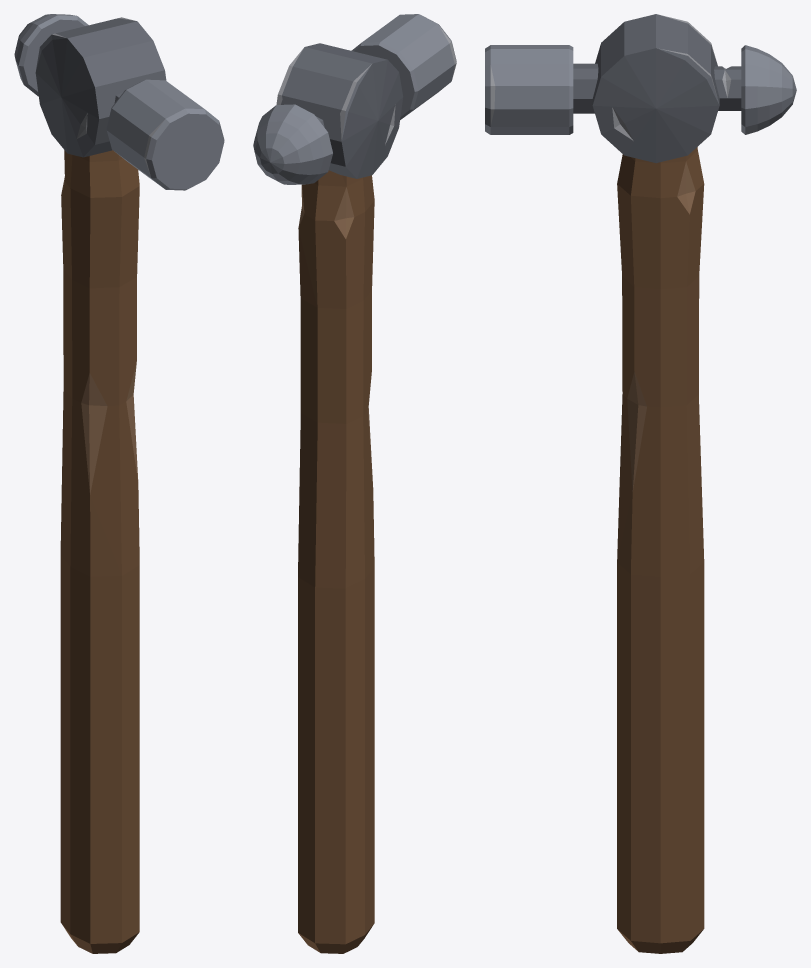
Rendered from mesh_hammer.fbx.
The picture shows the model from 3 angles, left to right: view 1: azimuth 30°, elevation 25°; view 2: azimuth 150°, elevation 25°; view 3: azimuth 270°, elevation 25°; orthographic projection. The views are drawn at different scales.
Parts seen in each view (by area): view 1: mesh_hammer; view 2: mesh_hammer; view 3: mesh_hammer.
Boxes of the visible parts, x1,y1,x2,y2 form: mesh_hammer: [14, 14, 224, 953]; mesh_hammer: [253, 14, 456, 953]; mesh_hammer: [485, 14, 796, 953].
Bounding box in the file's own units: 0.0664 × 0.7056 × 0.2186.
